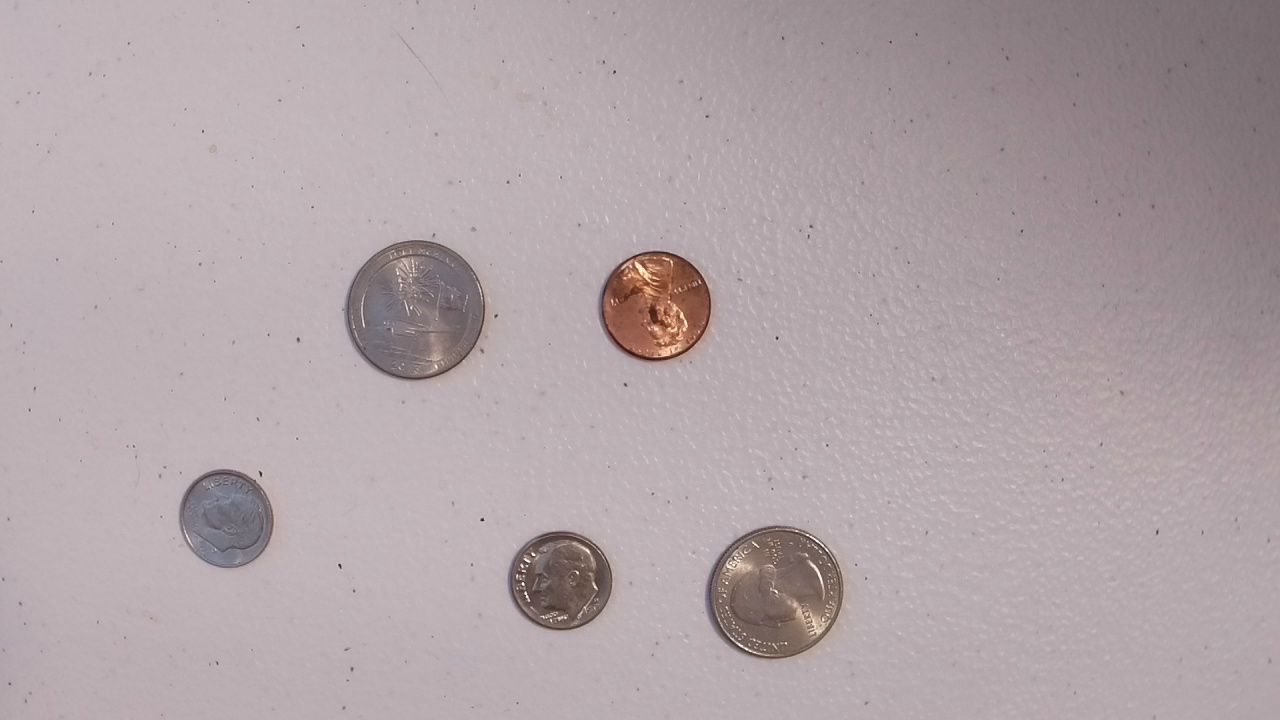dime: (506, 530, 616, 632), (178, 466, 276, 572)
penny: (598, 248, 716, 364)
quarter: (342, 233, 488, 385), (704, 524, 846, 660)
